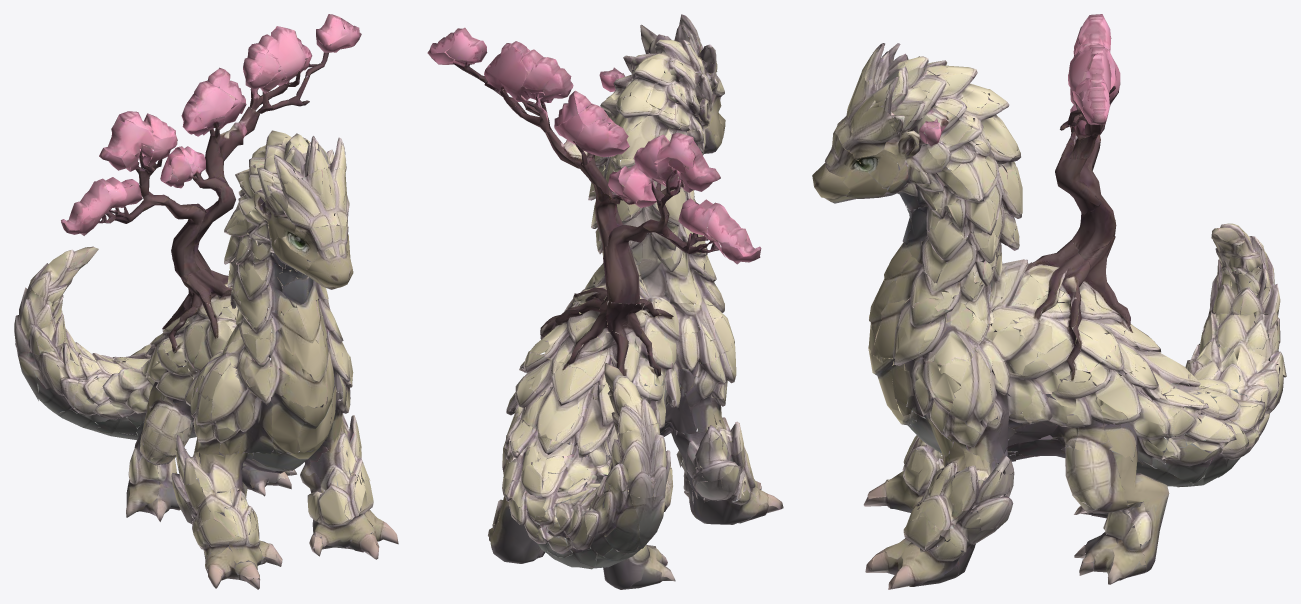
3 views of the same model, side by side, from view 1: azimuth 30°, elevation 25°; view 2: azimuth 150°, elevation 25°; view 3: azimuth 270°, elevation 25° (orthographic). The views are drawn at different scales.
Visible parts, largest first — view 1: Mesh_0; view 2: Mesh_0; view 3: Mesh_0.
Boxes of the visible parts, x1=… form: Mesh_0: x1=14, y1=14, x2=398, y2=589; Mesh_0: x1=427, y1=14, x2=783, y2=589; Mesh_0: x1=812, y1=14, x2=1286, y2=589.
Bounding box in the file's own units: 1.3 × 1.9 × 1.53.
Materials: 1 (1 with a texture image).
